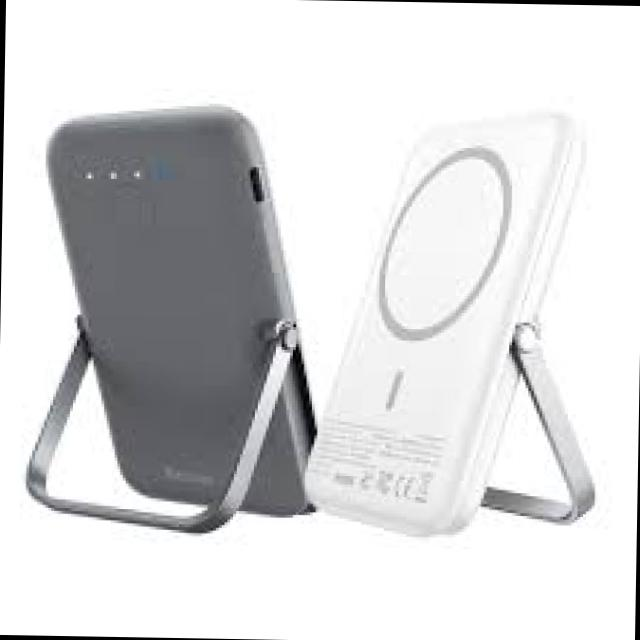portable-charger: (32, 92, 336, 522), (298, 102, 588, 538)
